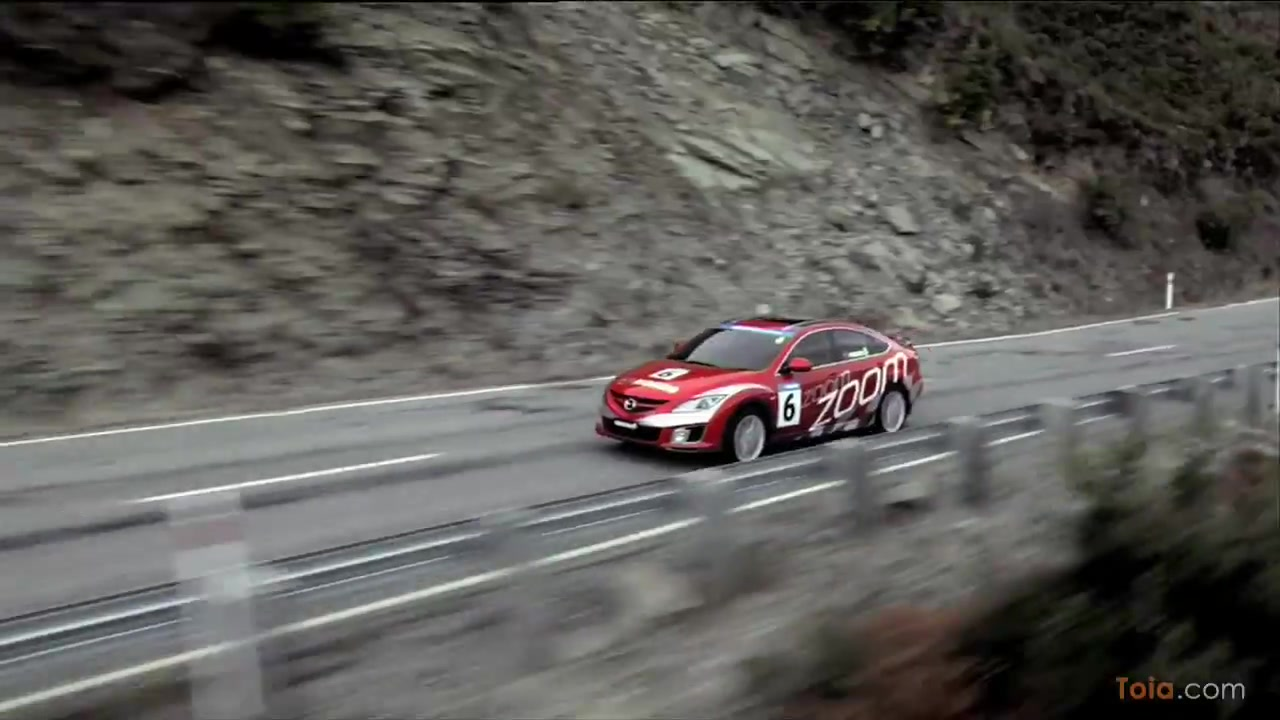car: (593, 309, 929, 468)
